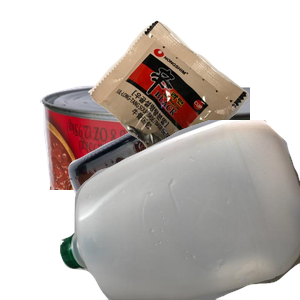glass: (66, 120, 300, 300)
metal: (37, 81, 277, 261)
plastic: (60, 120, 300, 300)
trash: (86, 18, 300, 194)
